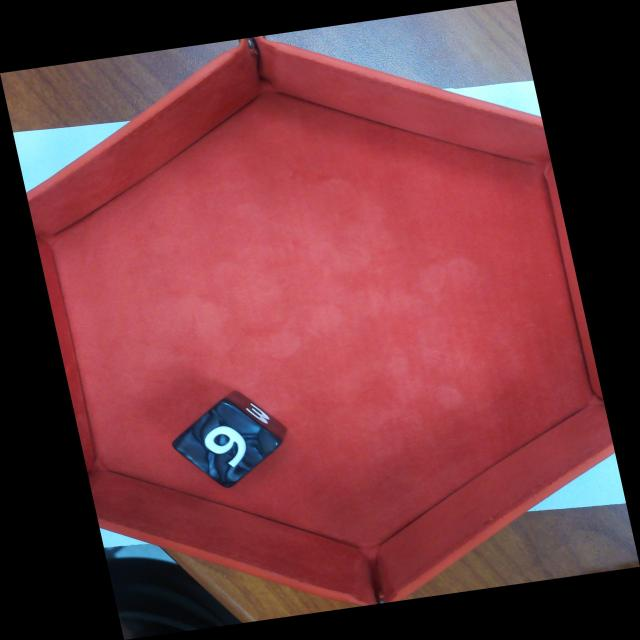dice: (180, 408, 276, 486)
